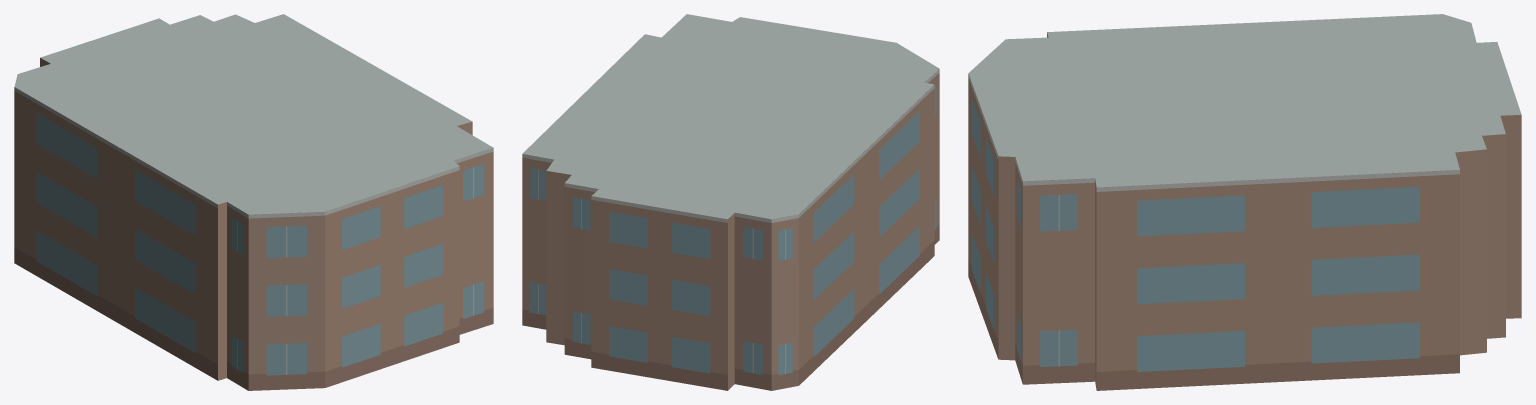
File: survey-upis-32501820.glb
3 views of the same model, side by side, from view 1: azimuth 30°, elevation 25°; view 2: azimuth 150°, elevation 25°; view 3: azimuth 270°, elevation 25° (orthographic). The views are drawn at different scales.
Visible parts, largest first — view 1: survey-upis-32501820.tmp; view 2: survey-upis-32501820.tmp; view 3: survey-upis-32501820.tmp.
Boxes of the visible parts, x1,y1,x2,y2 form: survey-upis-32501820.tmp: [14, 14, 493, 390]; survey-upis-32501820.tmp: [522, 14, 939, 390]; survey-upis-32501820.tmp: [968, 14, 1521, 390].
Size of the model in its own units: 20.41 by 11.15 by 27.5.
